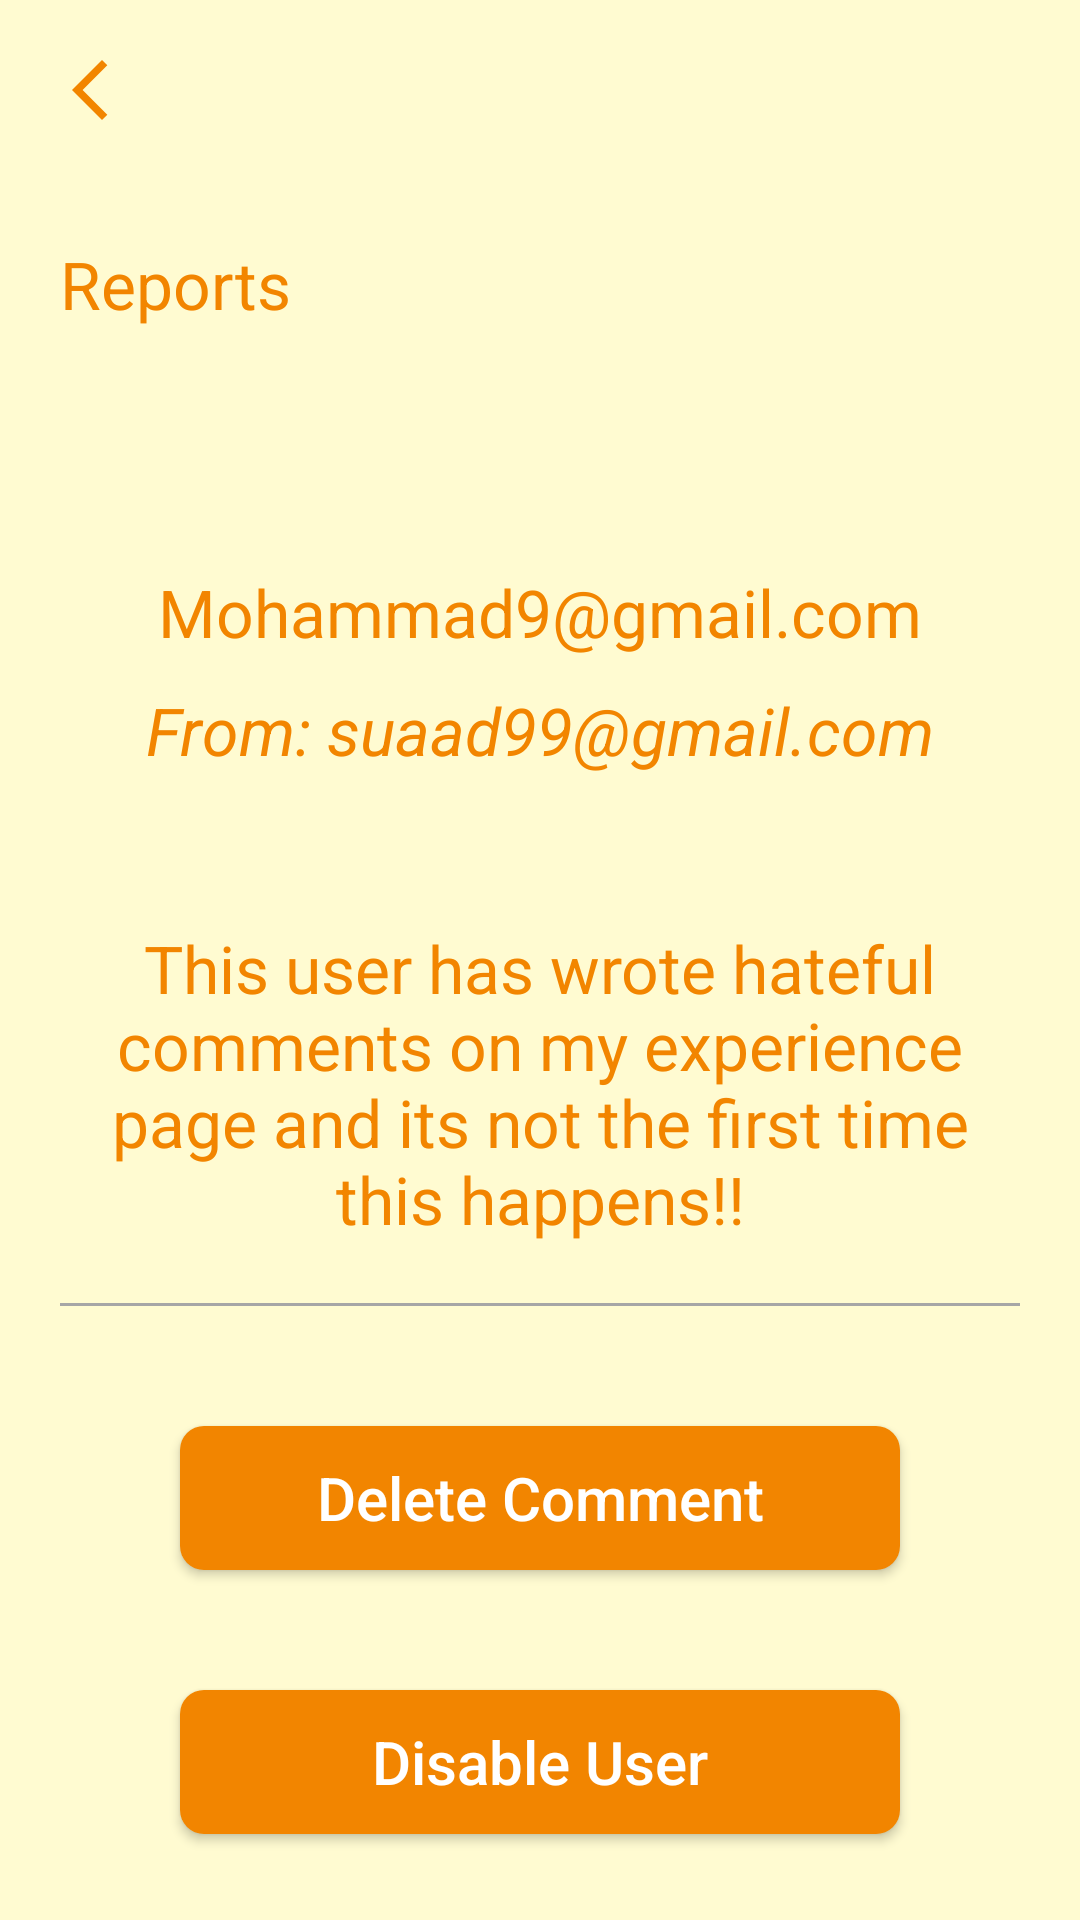

Icon click points for this 1080 x 1920 phone screenshot, format (x,y):
back: (89,90)
